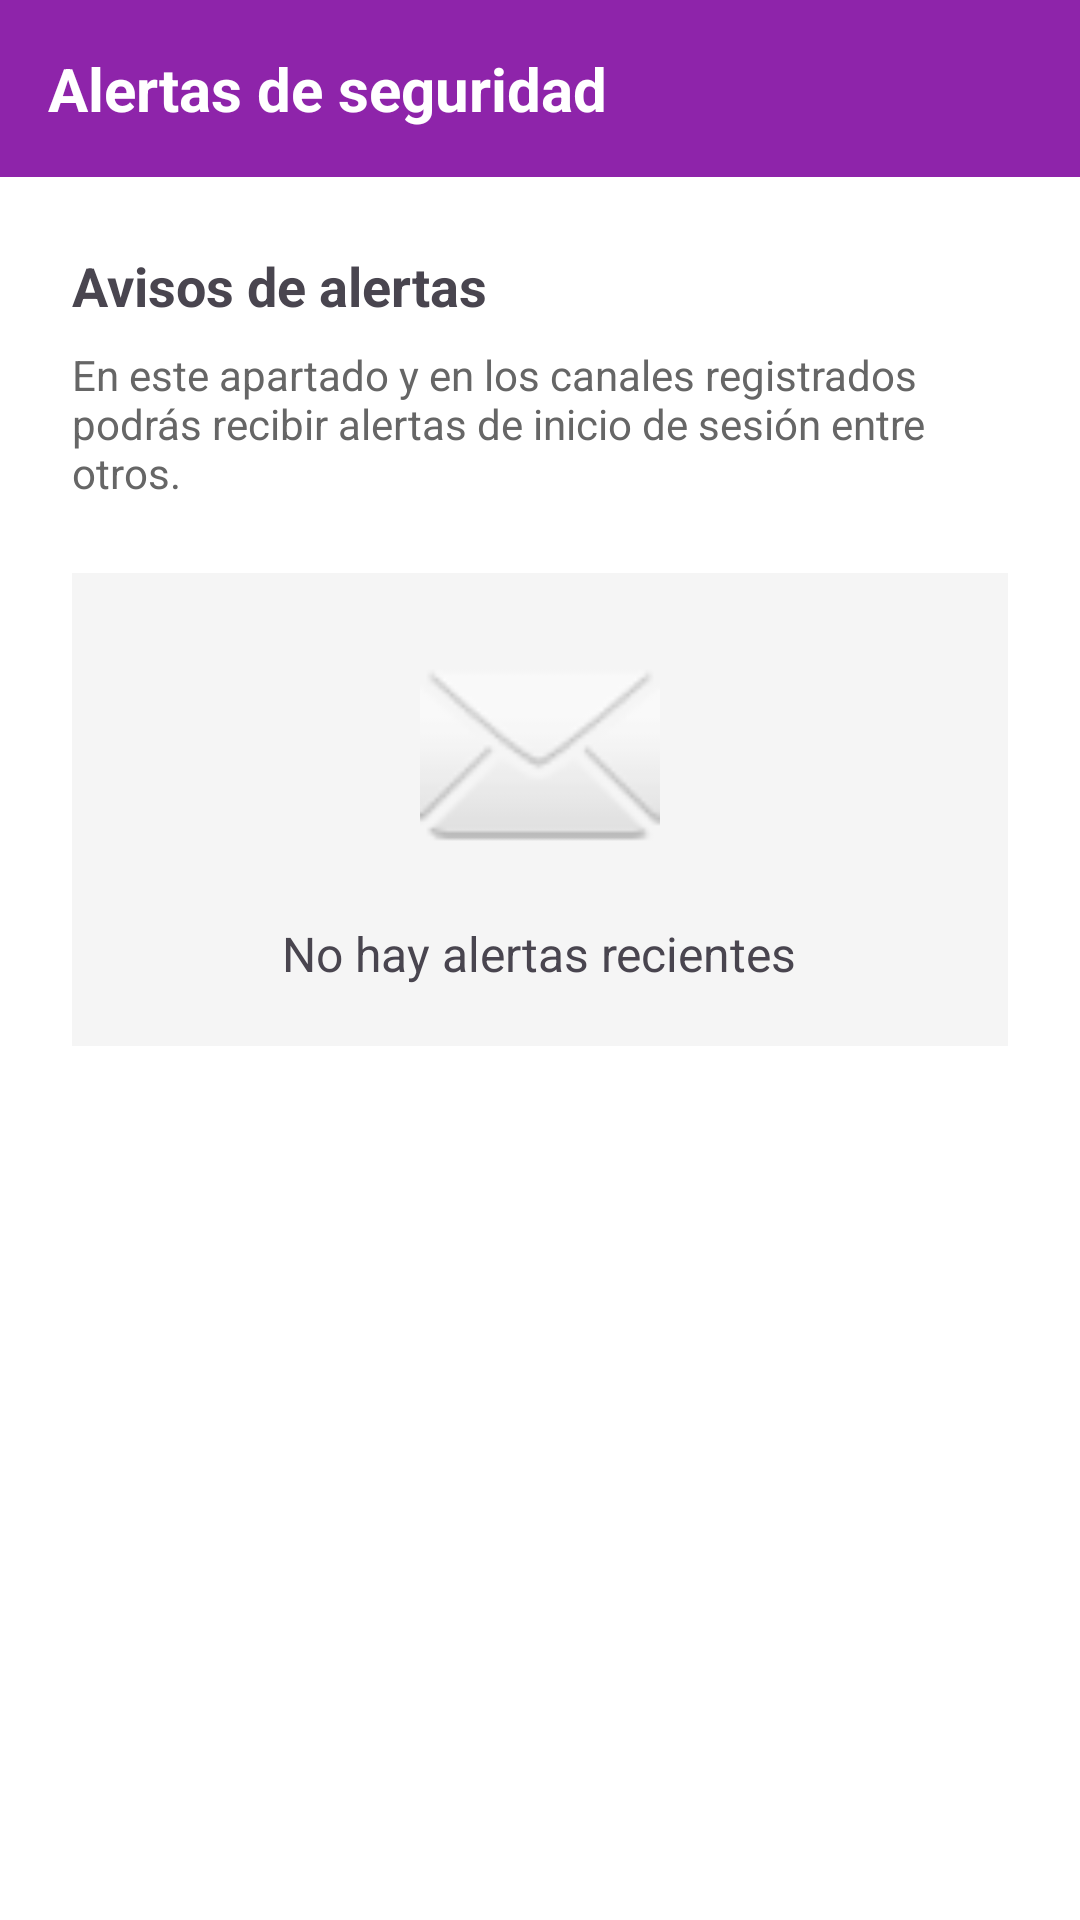

Named icons in this screenshot (1080×1920) and their centers, (x=x, y=y):
email: (x=540, y=758)
